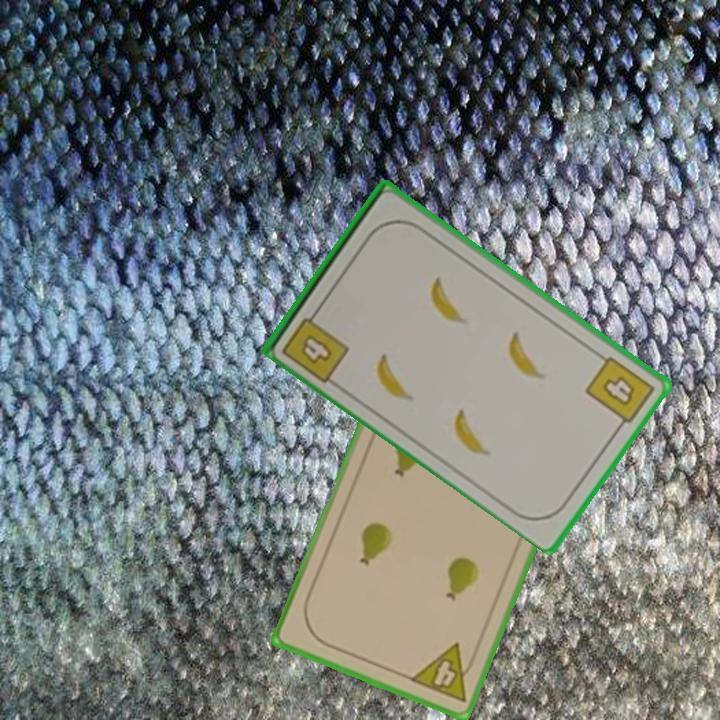4b: (581, 352, 658, 433), (278, 303, 353, 386)
4p: (406, 639, 481, 706)
